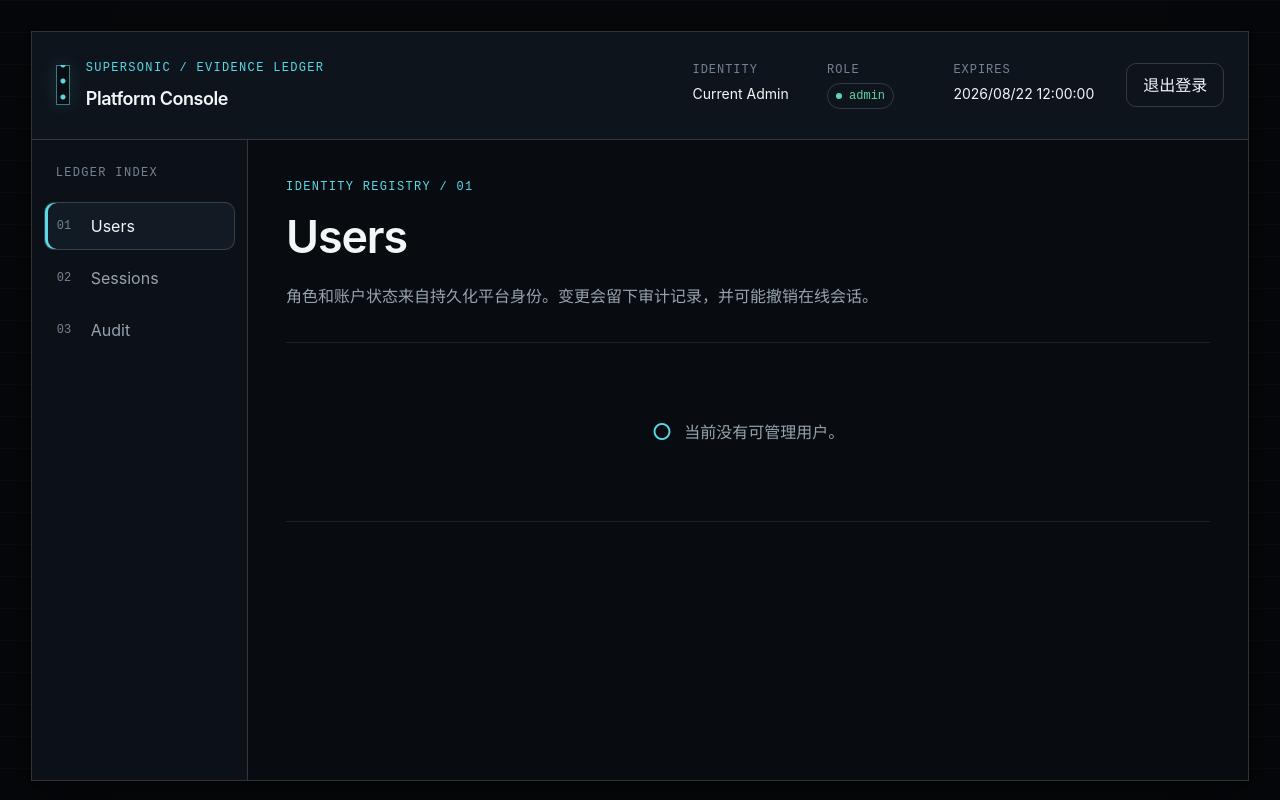
Test: PlatformConsole › renders audit actor identity and command evidence when present
Click the tab "03 Audit". click: (139, 330)
box: [44,306,235,354]
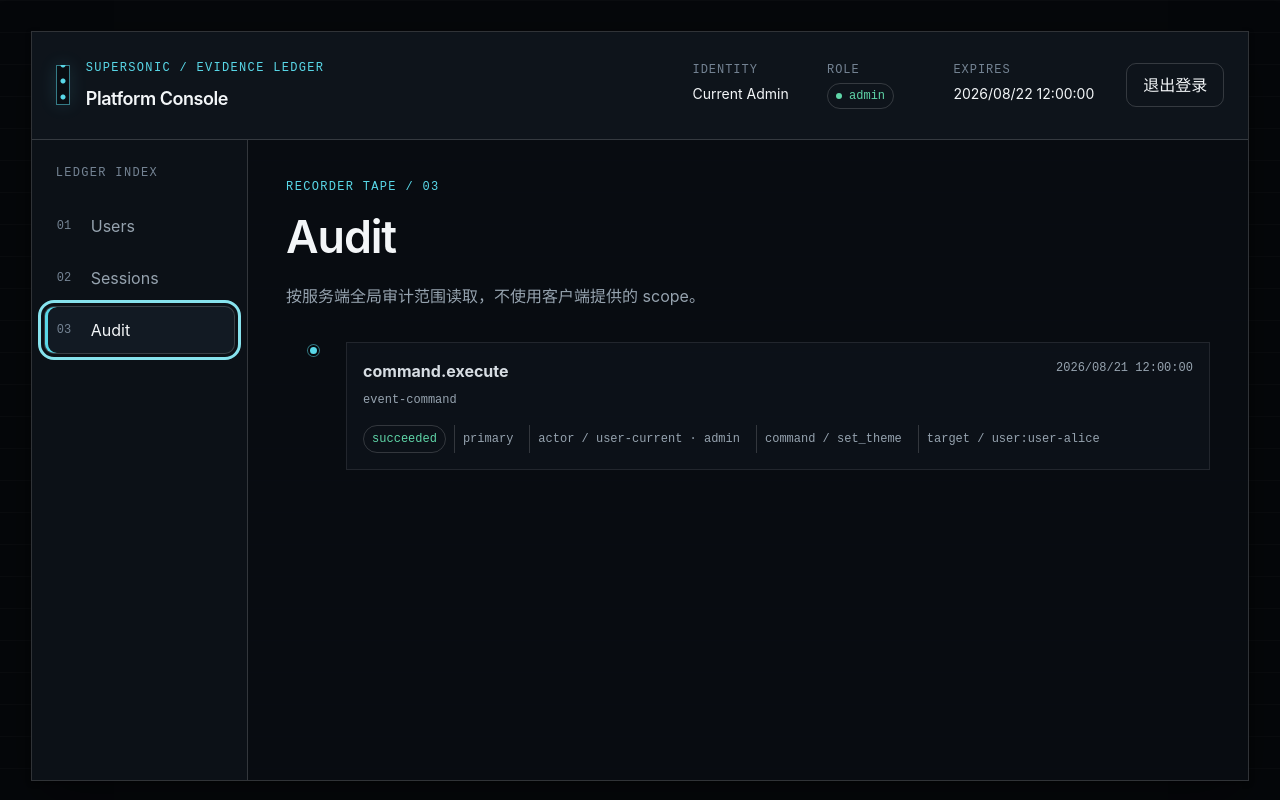
expect the text "actor / user-current · admin" is shown: met, box [529,425,748,453]
expect the text "command / set_theme" is shown: met, box [756,425,910,453]
